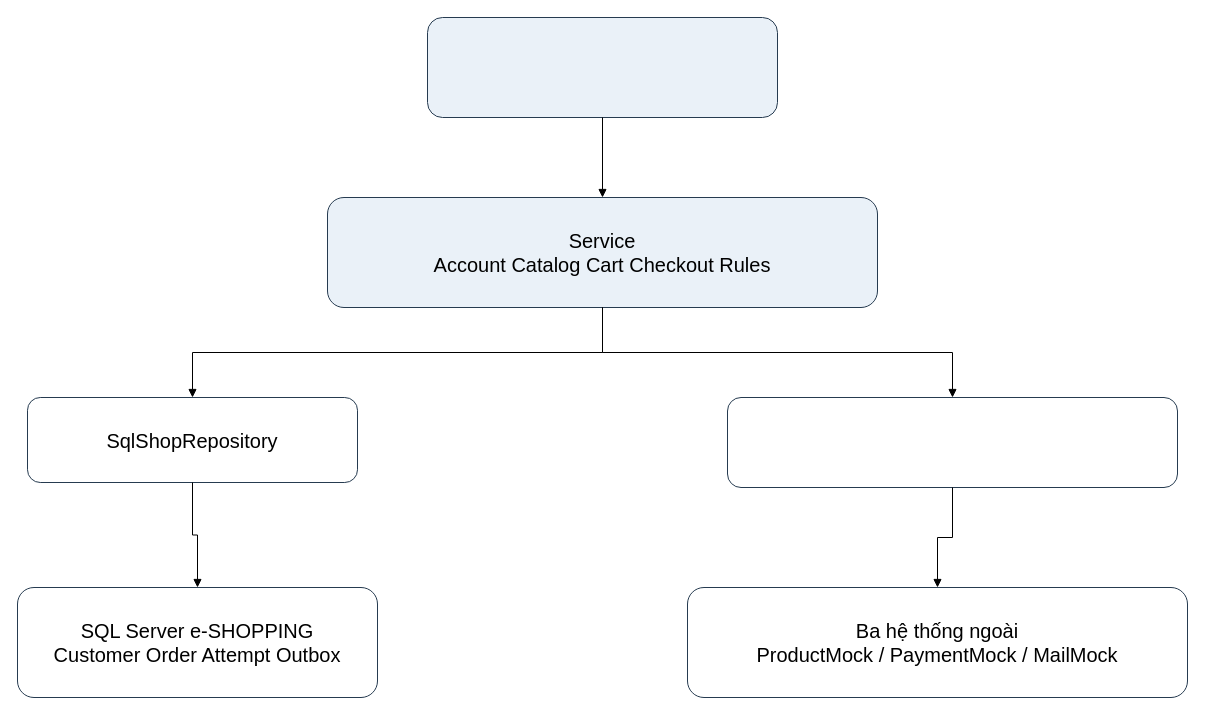
This 1205x715 diagram has some shape labels left out. Each missing label, with the centre of its shape:
"Các interface Adapter Product Payment Email" belongs at [952,442].
"UI Các Form WinForms" belongs at [602,67].
